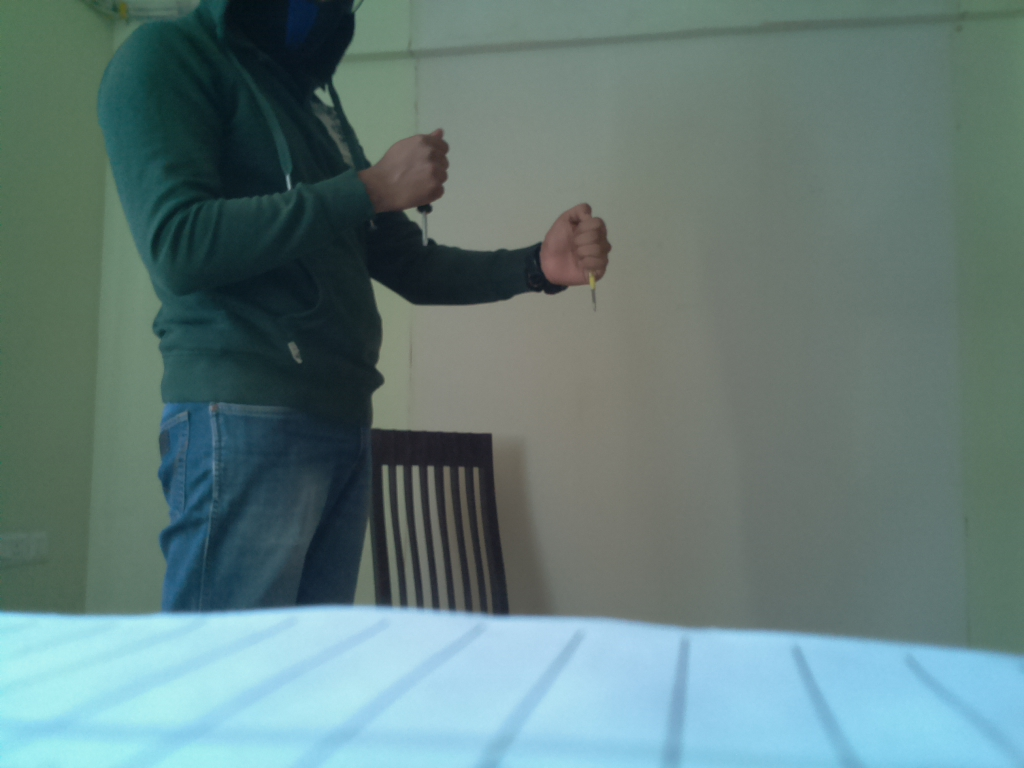none3: (575, 256, 603, 318), (413, 187, 433, 249)
